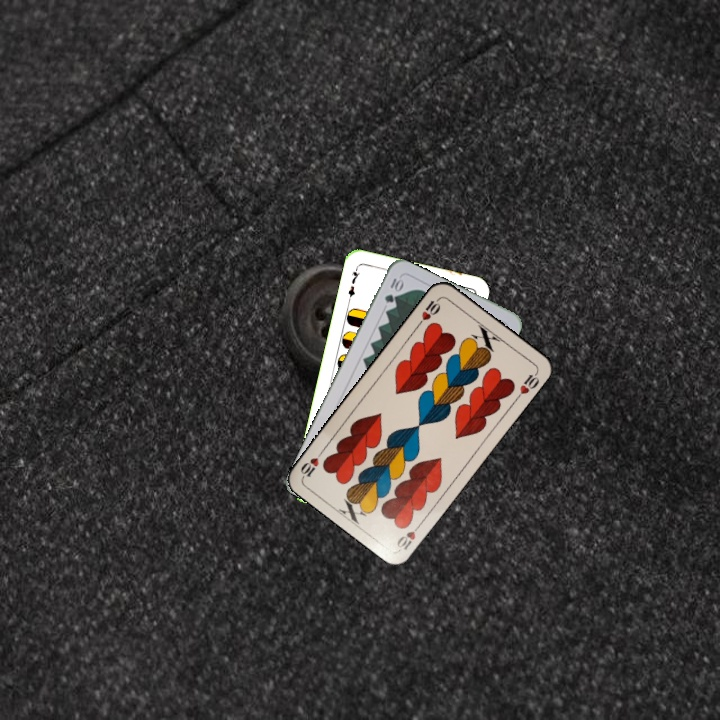E7: (344, 264, 362, 304)
G10: (380, 274, 405, 306)
H10: (393, 518, 425, 553), (413, 294, 443, 329)
